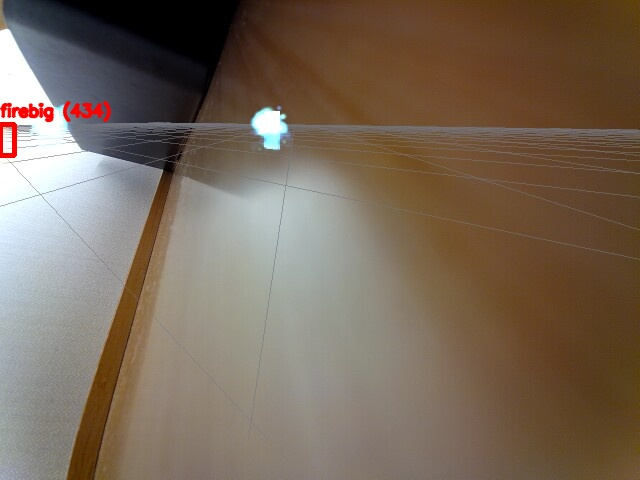firebig: (0, 124, 14, 155)
